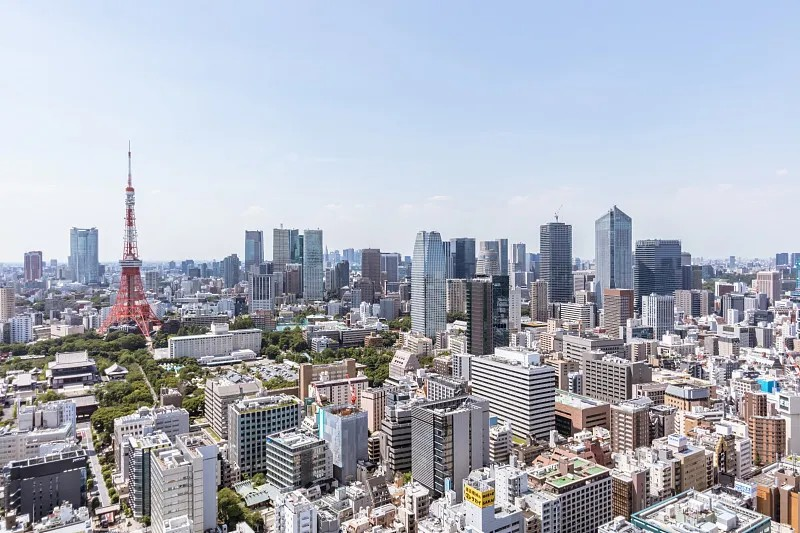Tokyo: (97, 137, 164, 353)
